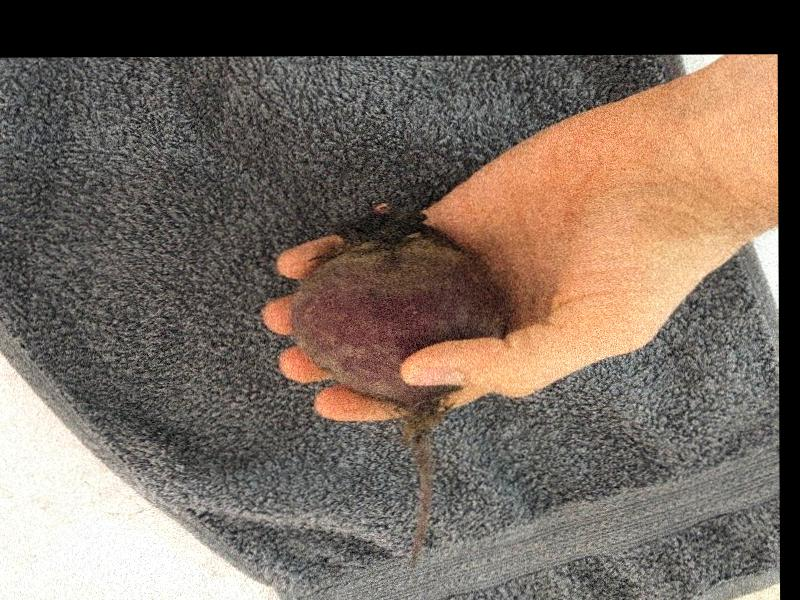Beet: (287, 211, 508, 567)
